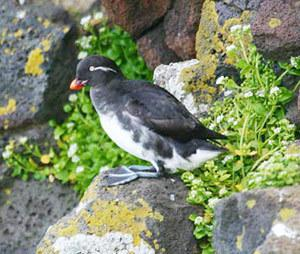007.Parakeet_Auklet: (69, 54, 230, 191)
